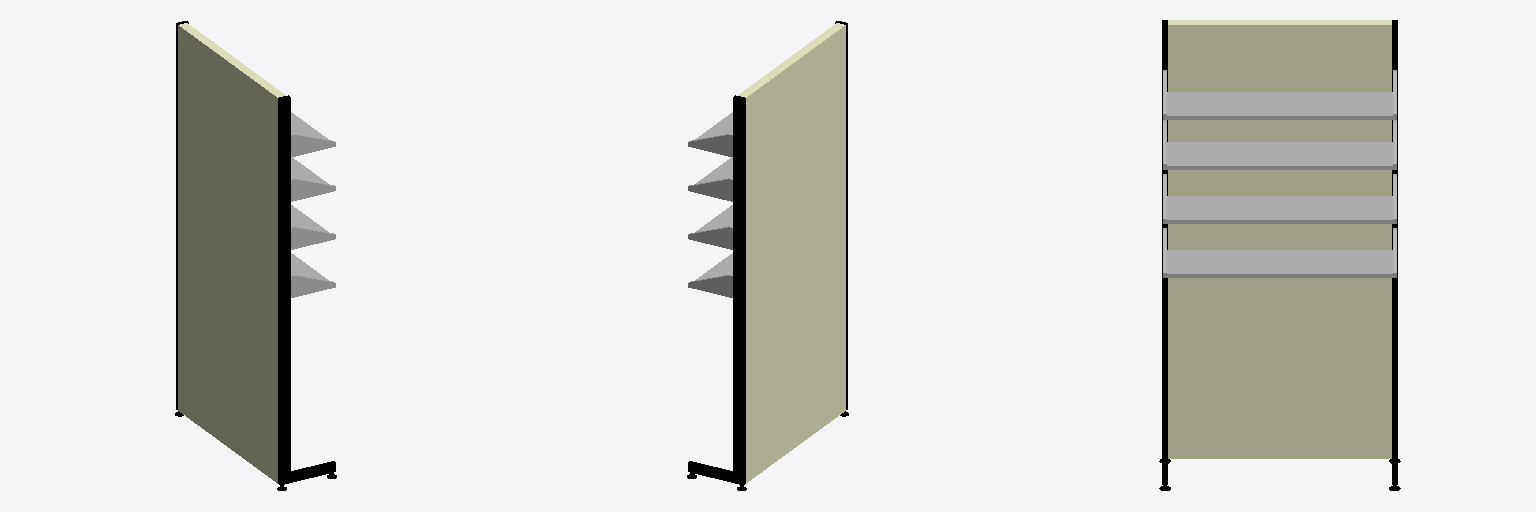
The robot description file, URDF, robot "bariera-1200-corner":
<?xml version="1.0"?>
<robot name="bariera-1200-corner"
       xmlns:xi="http://www.w3.org/2001/XInclude"
       xmlns:gazebo="http://playerstage.sourceforge.net/gazebo/xmlschema/#gz"
       xmlns:model="http://playerstage.sourceforge.net/gazebo/xmlschema/#model"
       xmlns:sensor="http://playerstage.sourceforge.net/gazebo/xmlschema/#sensor"
       xmlns:body="http://playerstage.sourceforge.net/gazebo/xmlschema/#body"
       xmlns:geom="http://playerstage.sourceforge.net/gazebo/xmlschema/#geom"
       xmlns:joint="http://playerstage.sourceforge.net/gazebo/xmlschema/#joint"
       xmlns:interface="http://playerstage.sourceforge.net/gazebo/xmlschema/#interface"
       xmlns:rendering="http://playerstage.sourceforge.net/gazebo/xmlschema/#rendering"
       xmlns:renderable="http://playerstage.sourceforge.net/gazebo/xmlschema/#renderable"
       xmlns:controller="http://playerstage.sourceforge.net/gazebo/xmlschema/#controller"
       xmlns:physics="http://playerstage.sourceforge.net/gazebo/xmlschema/#physics">
  <gazebo>
    <static>false</static>
  </gazebo>
  <link name="nil_link">
    <visual>
      <origin xyz="0 0 0" rpy="0 -0 0"/>
      <geometry>
        <mesh filename="model://bariera-1200-corner/meshes/nil_link_mesh.dae" scale="1 1 1" />
      </geometry>
    </visual>
    <collision>
      <origin xyz="0 0 0" rpy="0 -0 0"/>
      <geometry>
        <mesh filename="model://bariera-1200-corner/meshes/nil_link_mesh.dae" scale="1 1 1" />
      </geometry>
    </collision>
    <inertial>
      <mass value="0.001" />
      <origin xyz="0 0 0" rpy="0 -0 0"/>
      <inertia ixx="1e-09" ixy="0" ixz="0" iyy="1e-09" iyz="0" izz="1e-09"/>
    </inertial>
  </link>
  <gazebo reference="nil_link">
    <mu1>0.9</mu1>
    <mu2>0.9</mu2>
  </gazebo>
</robot>

--- What the picture shows (computed from the rendered views, not written in the file) ---
The picture shows the robot from 3 angles, left to right: view 1: azimuth 30°, elevation 25°; view 2: azimuth 150°, elevation 25°; view 3: azimuth 270°, elevation 25°; orthographic projection.
Robot: bariera-1200-corner — 1 links, 0 joints (none); root link nil_link; default pose: every joint at zero.
Links seen in each view (by area): view 1: nil_link; view 2: nil_link; view 3: nil_link.
Link boxes in pixels (left/top/right/bottom): nil_link: left=175, top=21, right=336, bottom=490; nil_link: left=687, top=21, right=848, bottom=490; nil_link: left=1159, top=20, right=1400, bottom=490.
Bounding box of the posed robot: 0.4 × 1.26 × 2.54 m (x, y, z).
Meshes: 1 distinct files referenced, 1 mesh visuals loaded (1 Collada DAE).
